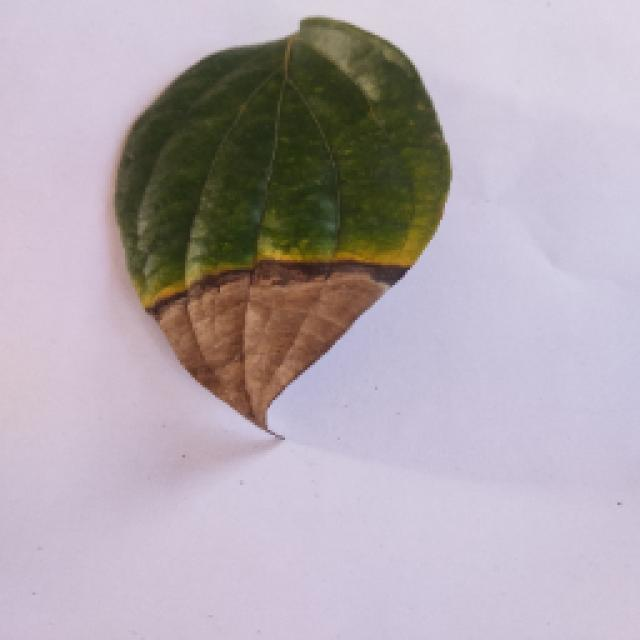footrot: (100, 10, 465, 455)
